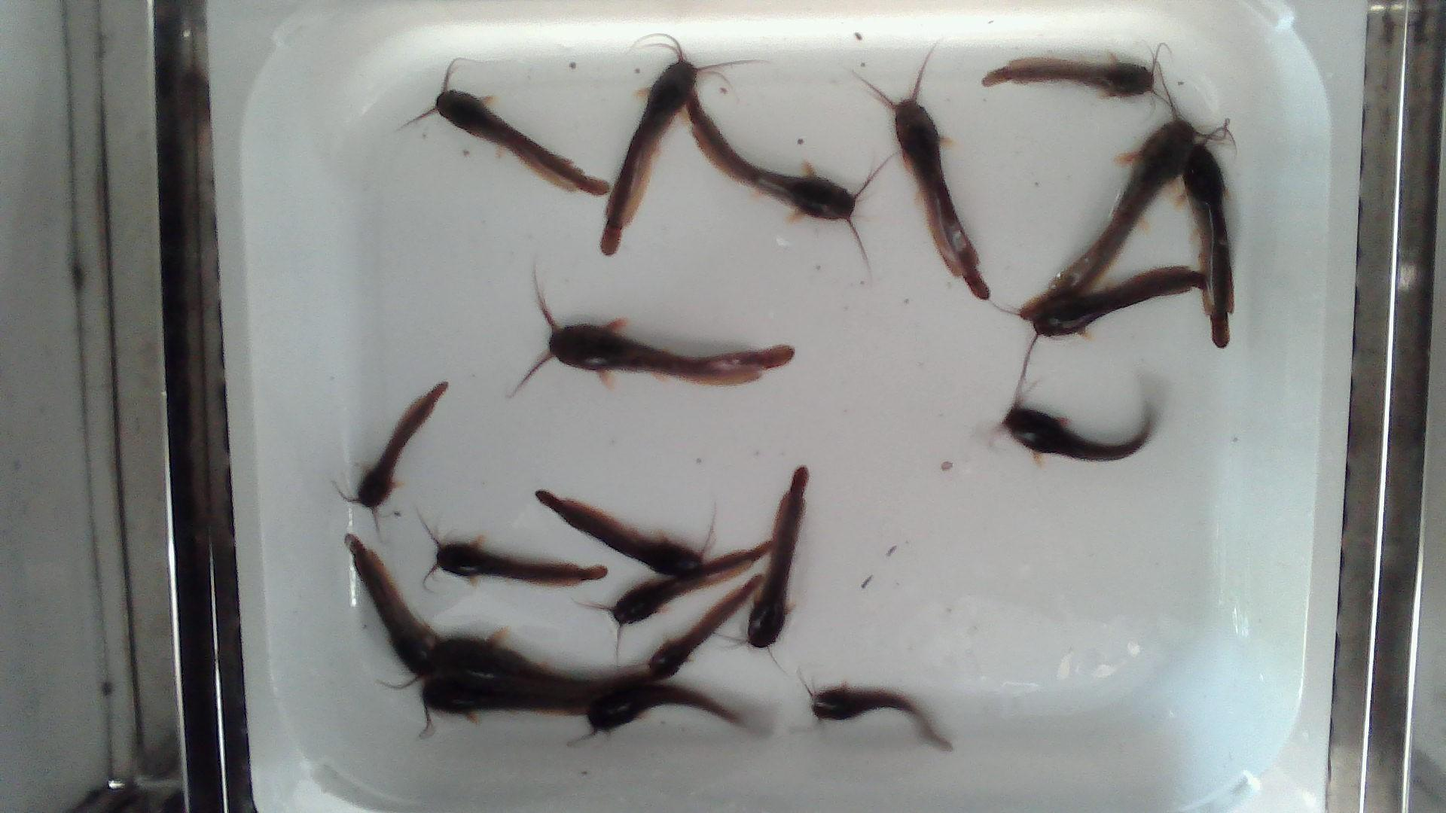lele: (1020, 62, 1230, 323), (685, 88, 897, 268), (598, 30, 765, 256), (860, 51, 989, 299), (520, 287, 794, 385), (409, 65, 609, 196), (1015, 262, 1207, 394), (570, 540, 774, 663), (425, 621, 662, 696), (532, 487, 716, 575), (340, 382, 447, 532), (629, 572, 764, 681), (345, 534, 437, 690), (740, 466, 808, 648), (426, 524, 608, 585), (1182, 138, 1235, 347), (1002, 394, 1154, 461), (419, 681, 603, 734), (587, 682, 741, 741), (810, 684, 951, 748), (982, 57, 1155, 97)
